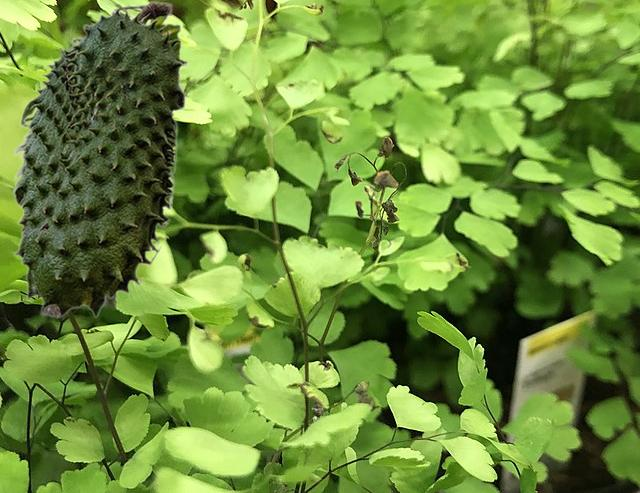guyabano: (11, 0, 187, 318)
